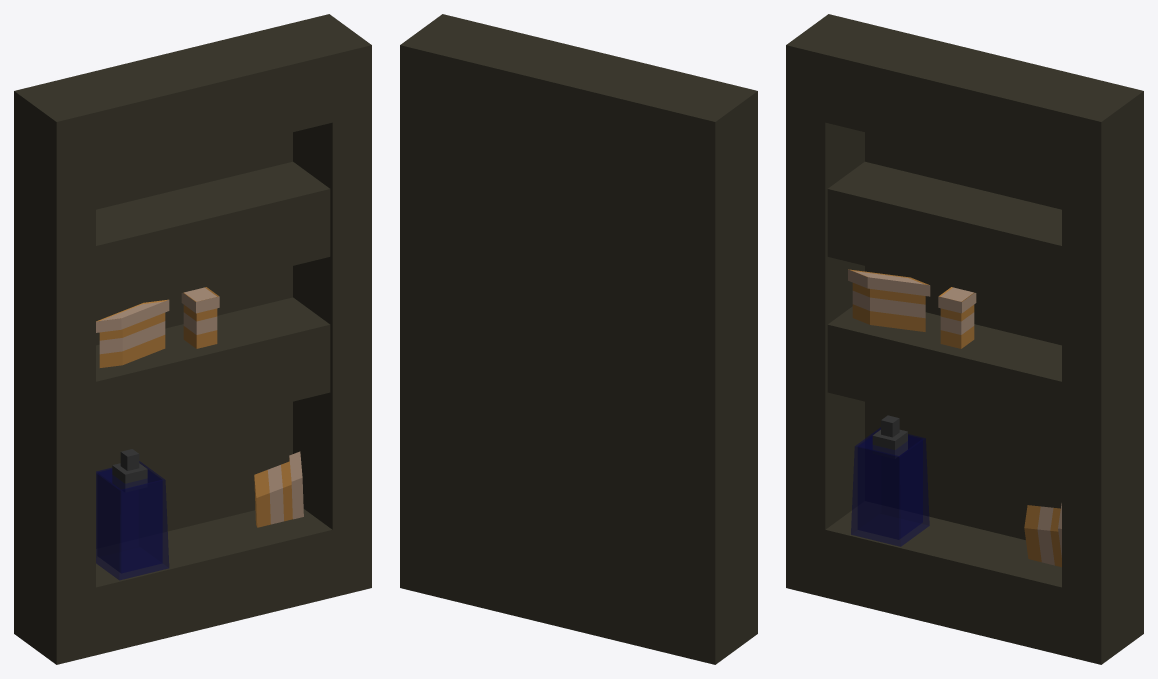
File: medcabinet.fbx
3 views of the same model, side by side, from view 1: azimuth 30°, elevation 25°; view 2: azimuth 150°, elevation 25°; view 3: azimuth 330°, elevation 25° (orthographic).
Visible parts, largest first — view 1: medcabinet, pCube12, med3, med2, med, pCube13; view 2: medcabinet; view 3: medcabinet, pCube12, med3, med2, med, pCube13.
Part boxes in pixels (left/top/right/bottom): medcabinet: left=14, top=14, right=371, bottom=664; pCube12: left=96, top=461, right=169, bottom=580; med3: left=96, top=299, right=169, bottom=367; med2: left=254, top=451, right=303, bottom=527; med: left=181, top=287, right=219, bottom=348; pCube13: left=112, top=463, right=147, bottom=492; medcabinet: left=400, top=14, right=757, bottom=664; medcabinet: left=786, top=14, right=1143, bottom=664; pCube12: left=851, top=427, right=929, bottom=546; med3: left=848, top=269, right=930, bottom=331; med2: left=1024, top=503, right=1061, bottom=567; med: left=938, top=287, right=976, bottom=348; pCube13: left=872, top=429, right=907, bottom=458.
Bounding box in the file's own units: 28.01 × 46.08 × 6.55.
